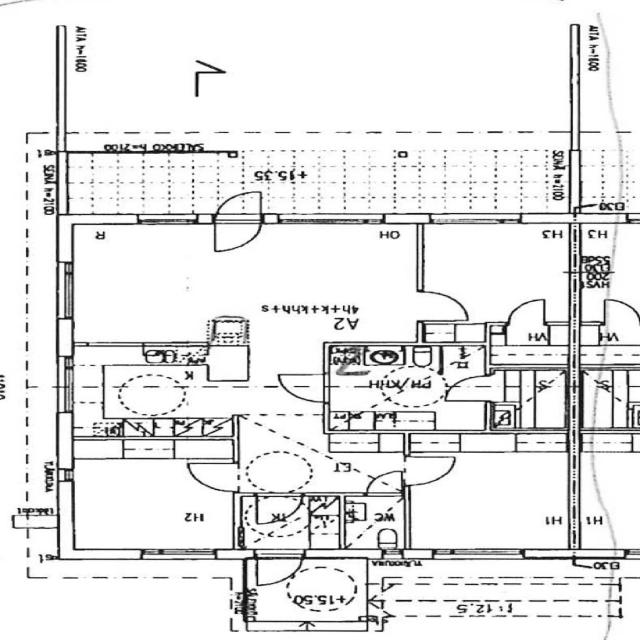door: (211, 189, 266, 255), (413, 287, 474, 324), (251, 550, 306, 589), (404, 453, 461, 486), (184, 459, 240, 492), (273, 372, 330, 404), (442, 374, 502, 403), (595, 296, 640, 334), (502, 296, 552, 326), (255, 495, 304, 525), (363, 469, 405, 495)
window: (51, 260, 84, 323), (431, 546, 527, 562), (54, 361, 78, 416), (141, 547, 220, 562), (431, 215, 518, 228), (136, 215, 202, 228)
zone: (58, 221, 430, 348), (405, 434, 574, 556), (67, 440, 236, 556), (417, 221, 573, 321), (66, 349, 233, 438), (322, 344, 488, 429), (492, 368, 566, 434), (487, 321, 572, 367), (342, 494, 406, 552), (252, 493, 306, 529), (13, 513, 57, 528)
